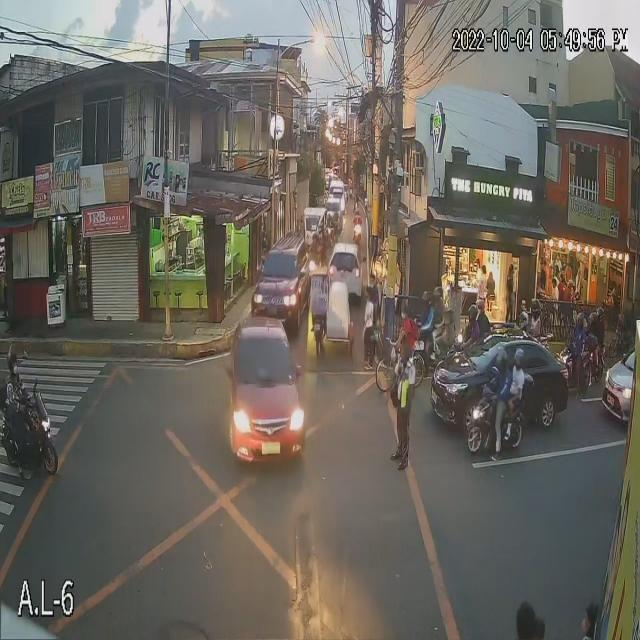helmet: (0, 341, 25, 385), (490, 345, 510, 375), (514, 305, 536, 330), (512, 345, 533, 371), (570, 312, 591, 335), (418, 288, 436, 312), (582, 312, 600, 336), (528, 291, 544, 315), (430, 280, 446, 302), (594, 304, 607, 324), (466, 306, 480, 323), (477, 293, 488, 311)
motorcycle: (0, 389, 64, 475), (465, 400, 524, 463), (554, 349, 597, 390), (353, 226, 364, 245)
rider: (0, 336, 35, 435), (486, 340, 515, 427), (428, 280, 452, 341), (511, 341, 531, 410), (564, 313, 587, 367), (475, 286, 499, 333), (526, 290, 548, 339), (418, 285, 435, 340), (514, 298, 532, 347), (459, 305, 483, 341), (594, 301, 610, 337), (587, 308, 599, 343), (353, 205, 364, 230)
